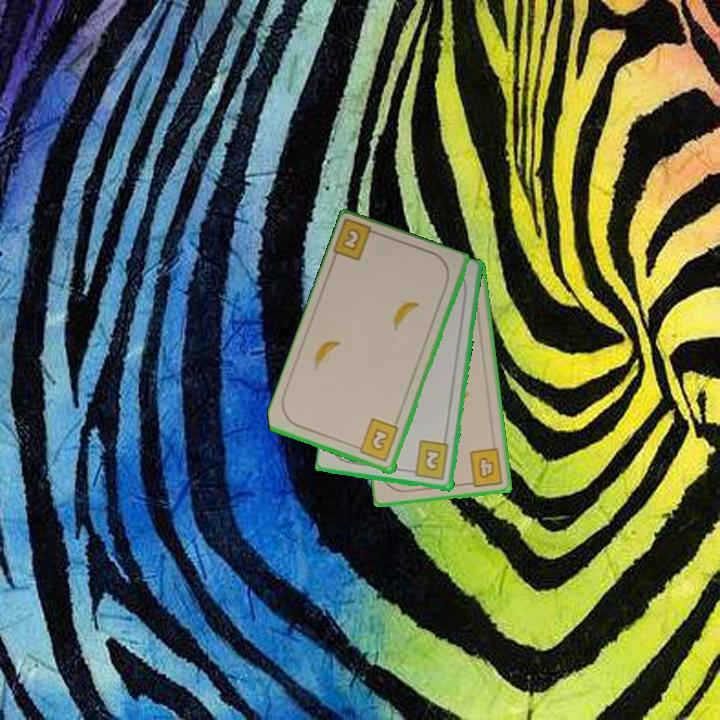2b: (351, 415, 402, 465), (331, 218, 384, 264), (406, 438, 451, 483)
4b: (462, 445, 506, 489)
